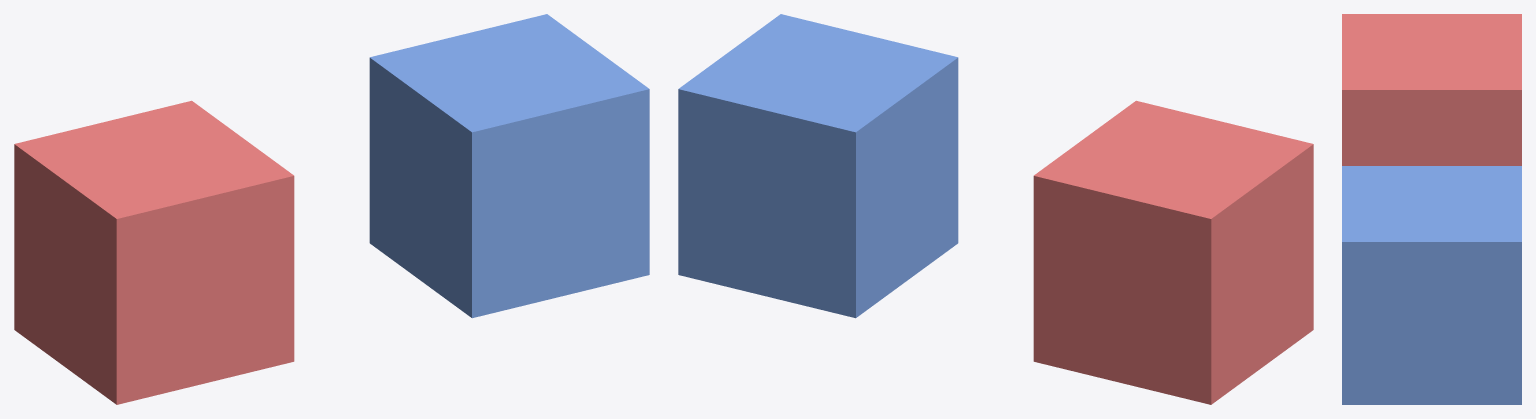
File: SampleBox.gltf
3 views of the same model, side by side, from view 1: azimuth 30°, elevation 25°; view 2: azimuth 150°, elevation 25°; view 3: azimuth 270°, elevation 25° (orthographic). The views are drawn at different scales.
Size of the model in its own units: 1.8 by 0.6 by 0.6.
